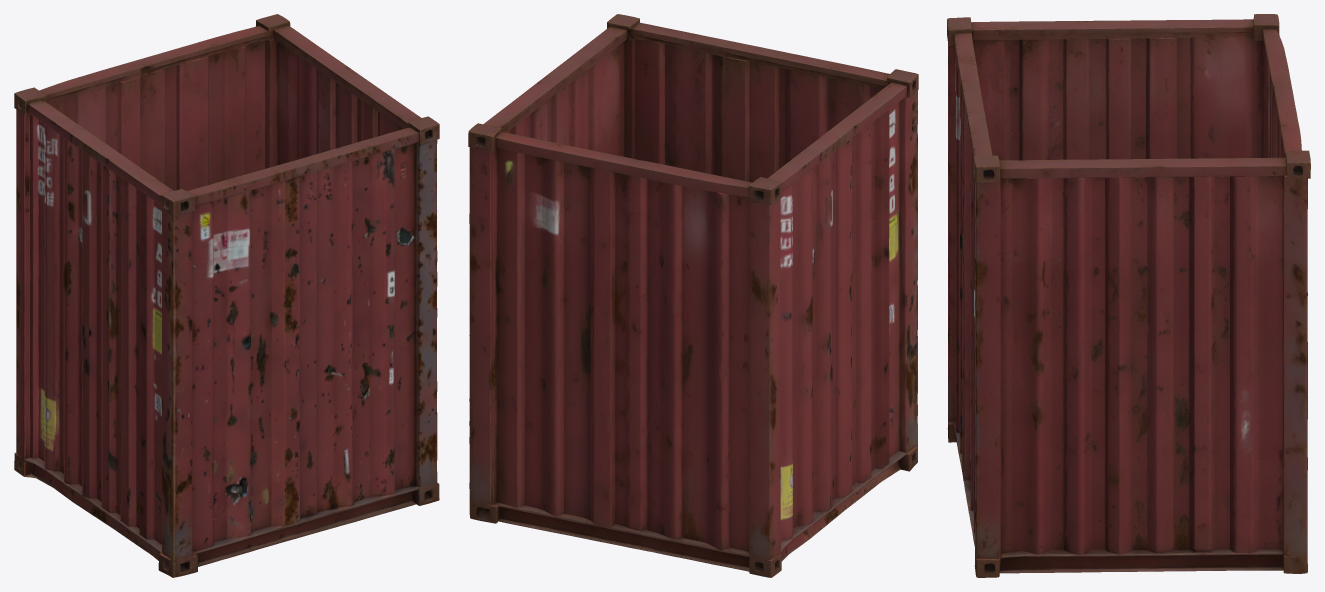
File: decor-conteneur.glb
3 views of the same model, side by side, from view 1: azimuth 30°, elevation 25°; view 2: azimuth 150°, elevation 25°; view 3: azimuth 270°, elevation 25° (orthographic). The views are drawn at different scales.
Parts seen in each view (by area): view 1: model; view 2: model; view 3: model.
Part boxes in pixels (x1,y1,x2,y2): model: (14,14,439,577); model: (468,14,918,577); model: (947,14,1310,577).
Bounding box in the file's own units: 1.51 × 1.88 × 1.51.
Materials: 1 (1 with a texture image).
